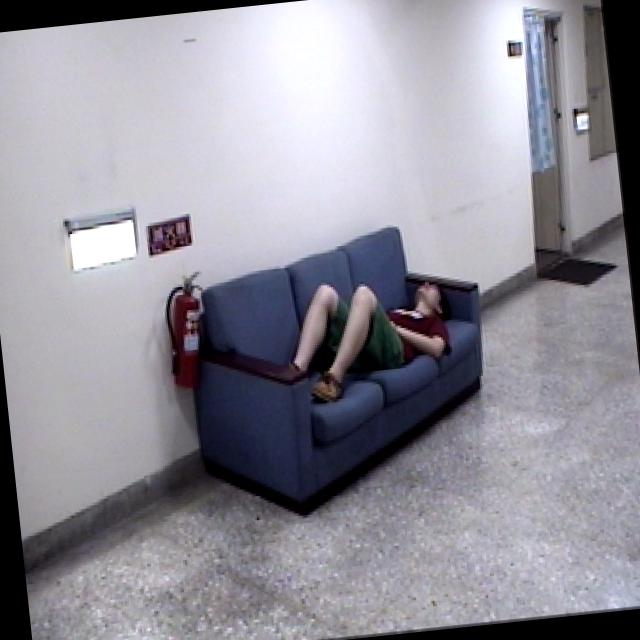lie: (268, 269, 466, 416)
